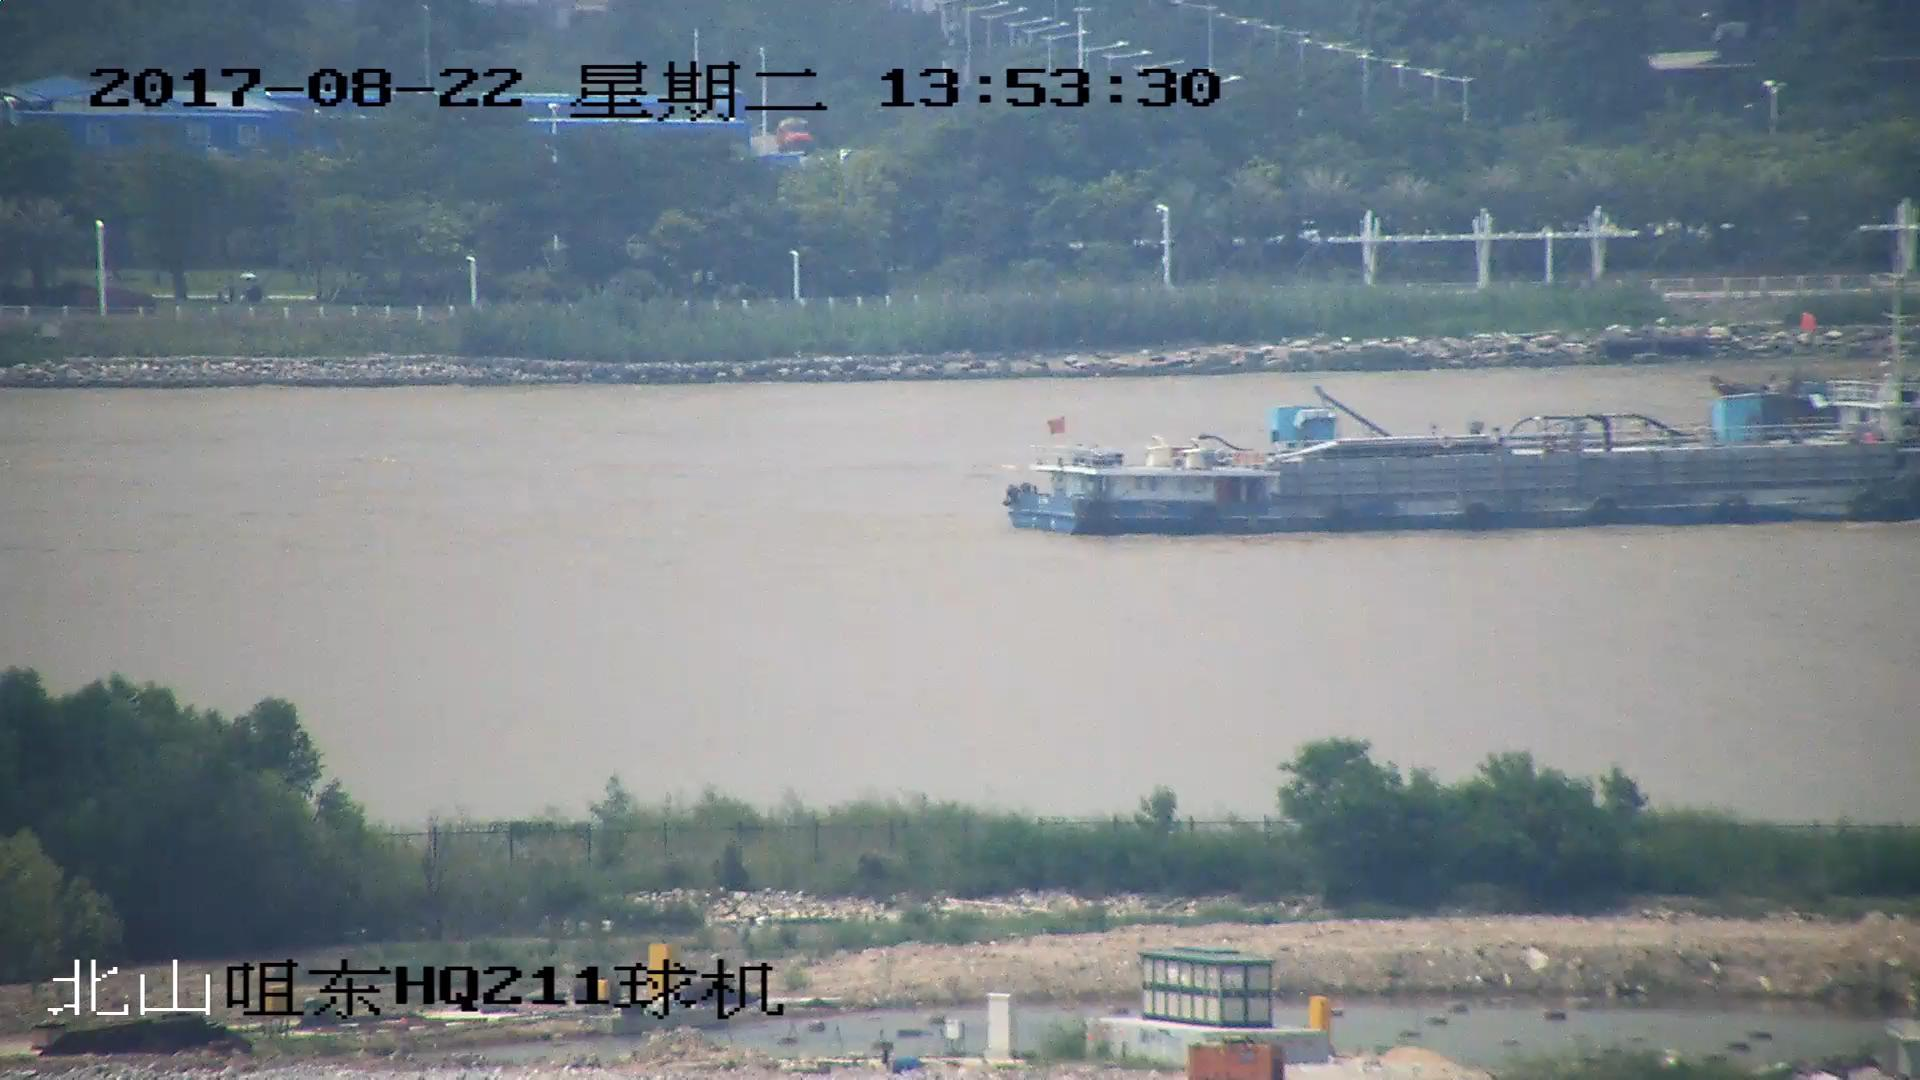Ship: (1005, 367, 1920, 539), (1709, 316, 1920, 450)
